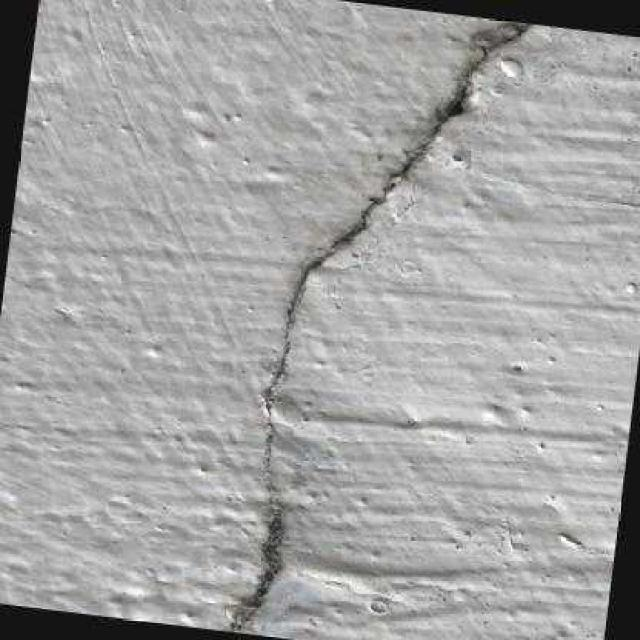D00: (227, 22, 533, 632)
